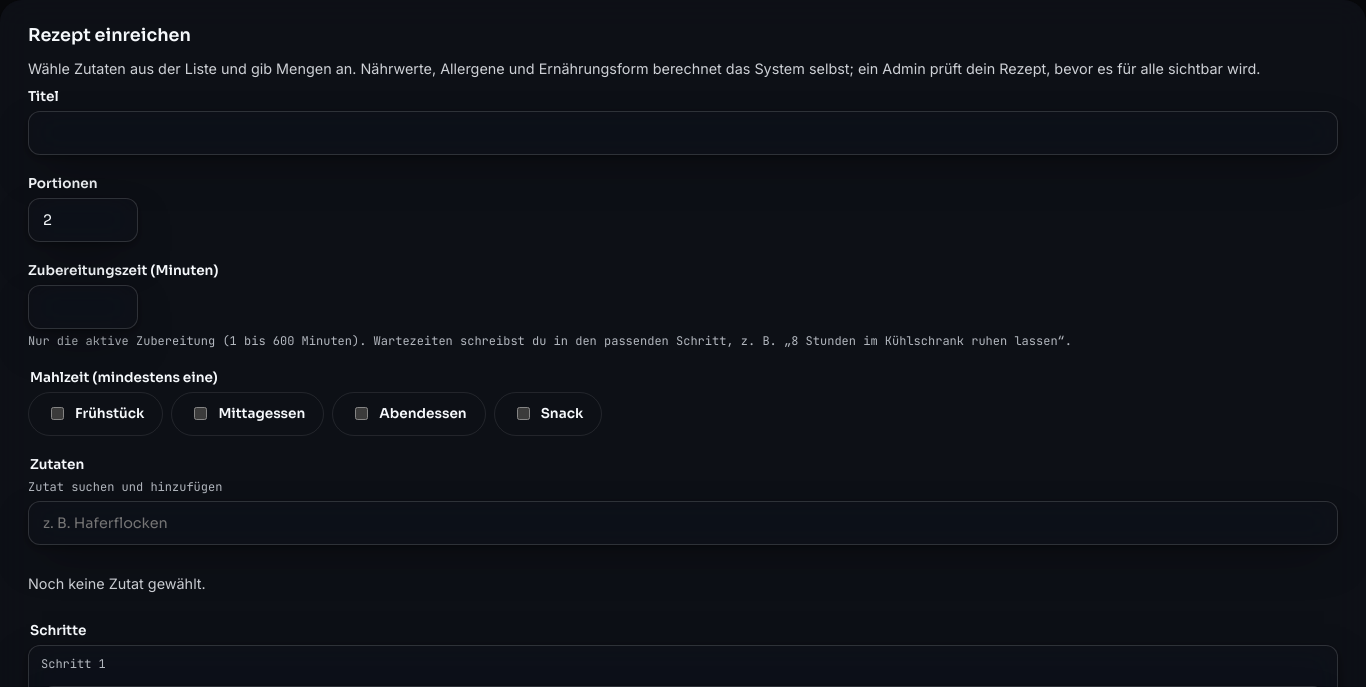
Test: RecipeSubmissionForm › meldet 'keine Zutat gefunden' statt einer leeren Liste
Type "zzz" into the dropdown.
click(683, 523); type("zzz")  # box left=28, top=501, right=1338, bottom=545
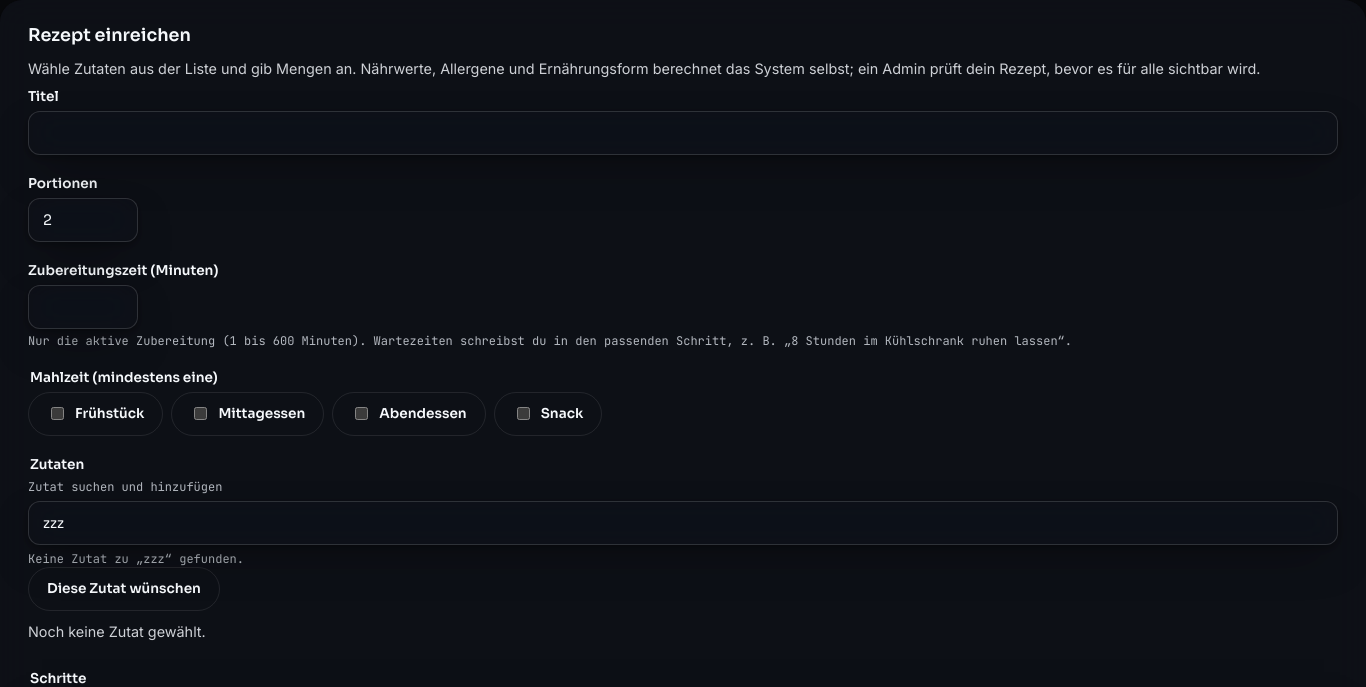
Check: the text "Keine Zutat zu „zzz“ gefunden." is shown, box left=28, top=551, right=244, bottom=567
